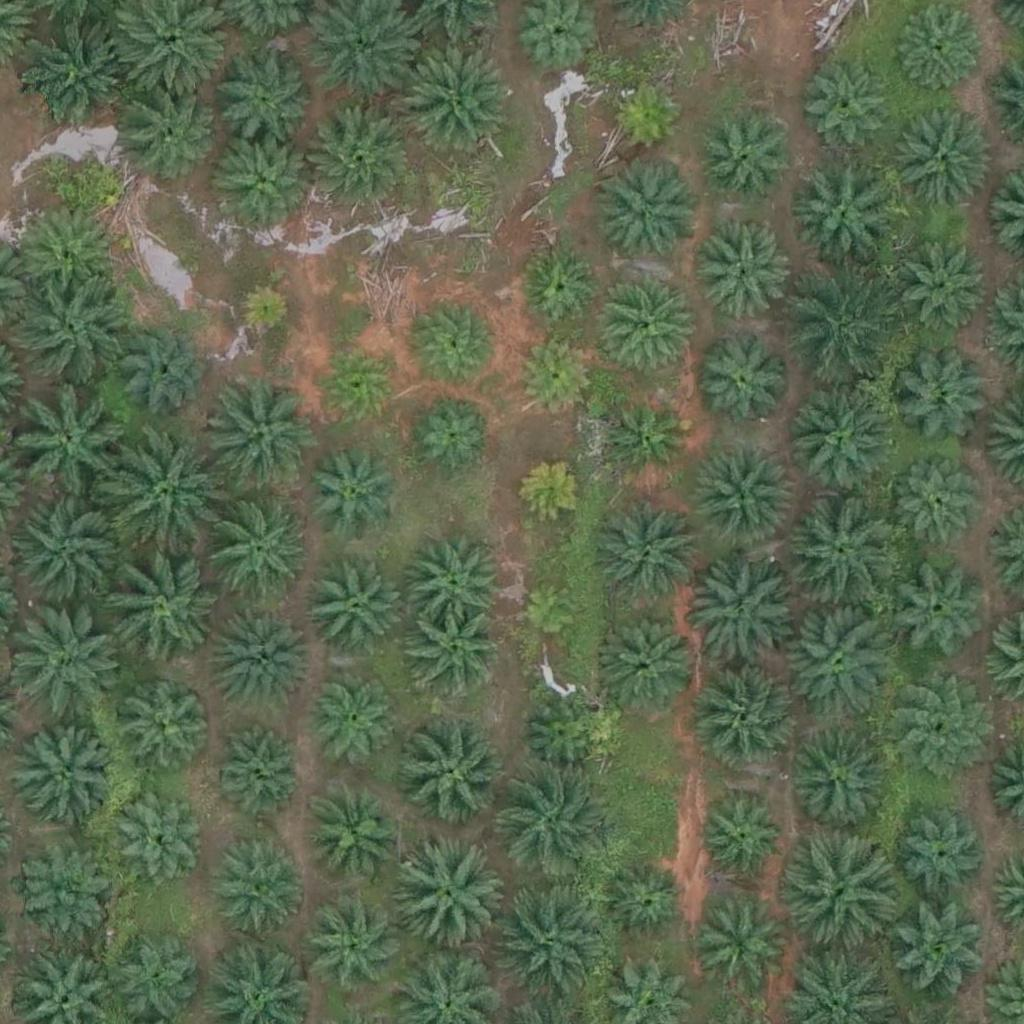Kelapa_Sawit: (784, 609, 897, 723), (591, 493, 704, 607), (498, 886, 611, 1000), (395, 714, 508, 828), (787, 491, 900, 604), (784, 828, 897, 941), (689, 559, 802, 672), (388, 842, 501, 955), (10, 494, 123, 607), (785, 155, 898, 268), (786, 278, 899, 391), (24, 17, 137, 130), (107, 441, 220, 554), (13, 390, 126, 503), (9, 611, 121, 725), (399, 45, 511, 159), (301, 102, 413, 216), (501, 765, 613, 878), (103, 550, 215, 663), (204, 377, 316, 490), (19, 273, 131, 386), (884, 902, 984, 1003), (790, 729, 890, 830), (690, 446, 790, 547), (703, 669, 803, 770), (604, 610, 704, 711), (404, 530, 504, 631), (298, 443, 398, 544), (305, 559, 405, 660), (305, 783, 405, 884), (307, 900, 407, 1001), (211, 499, 311, 600), (208, 832, 308, 933), (116, 672, 216, 773), (16, 727, 116, 828), (892, 345, 992, 446), (696, 104, 796, 205), (696, 214, 796, 315), (689, 337, 789, 438), (594, 166, 694, 267), (593, 274, 693, 375), (217, 47, 317, 148), (112, 86, 212, 187), (18, 203, 118, 304), (886, 451, 986, 551), (207, 614, 307, 714), (12, 839, 112, 939), (794, 388, 894, 488), (896, 231, 996, 331), (895, 107, 995, 207), (217, 133, 317, 233), (308, 681, 396, 770), (893, 694, 981, 782), (892, 564, 980, 652), (521, 695, 609, 783), (413, 610, 501, 698), (213, 725, 301, 813), (604, 70, 692, 158), (412, 298, 500, 386), (412, 390, 500, 478), (510, 330, 598, 418), (518, 241, 606, 329), (800, 61, 888, 149), (125, 323, 213, 411), (699, 796, 786, 885), (900, 809, 987, 897), (703, 911, 790, 999), (602, 863, 689, 951), (114, 793, 201, 881), (114, 934, 201, 1022), (313, 340, 400, 428), (603, 390, 690, 478), (515, 452, 590, 528), (230, 281, 293, 344), (520, 581, 582, 644)
